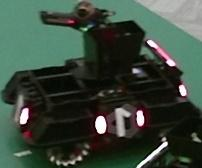armor_1: (95, 111, 145, 134)
